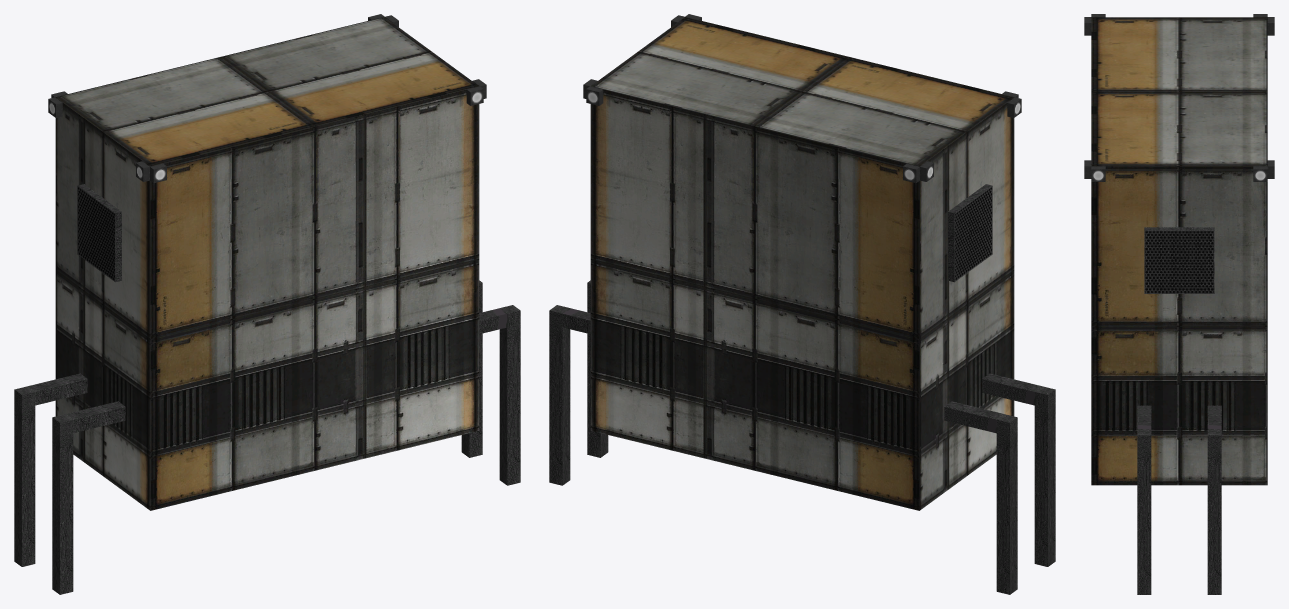
Rendered from SRA01.fbx.
3 renders of one model, left to right at view 1: azimuth 30°, elevation 25°; view 2: azimuth 150°, elevation 25°; view 3: azimuth 270°, elevation 25°, orthographic. The views are drawn at different scales.
Visible parts, largest first — view 1: node_id34 (×2), node_id43 (×6), node_id37 (×2); view 2: node_id34 (×2), node_id43 (×6), node_id37 (×2); view 3: node_id34 (×2), node_id43 (×4), node_id40 (×2).
Boxes of the visible parts, x1,y1,x2,y2 form: node_id34 (×2): (55,17,479,510); node_id43 (×6): (14,280,520,594); node_id37 (×2): (77,184,121,282); node_id34 (×2): (590,17,1014,510); node_id43 (×6): (549,280,1055,594); node_id37 (×2): (948,184,992,282); node_id34 (×2): (1091,17,1267,485); node_id43 (×4): (1137,405,1221,594); node_id40 (×2): (1144,227,1214,293).
Size of the model in its own units: 0.512 by 0.4571 by 0.1975.
Materials: 28 (28 with a texture image).
